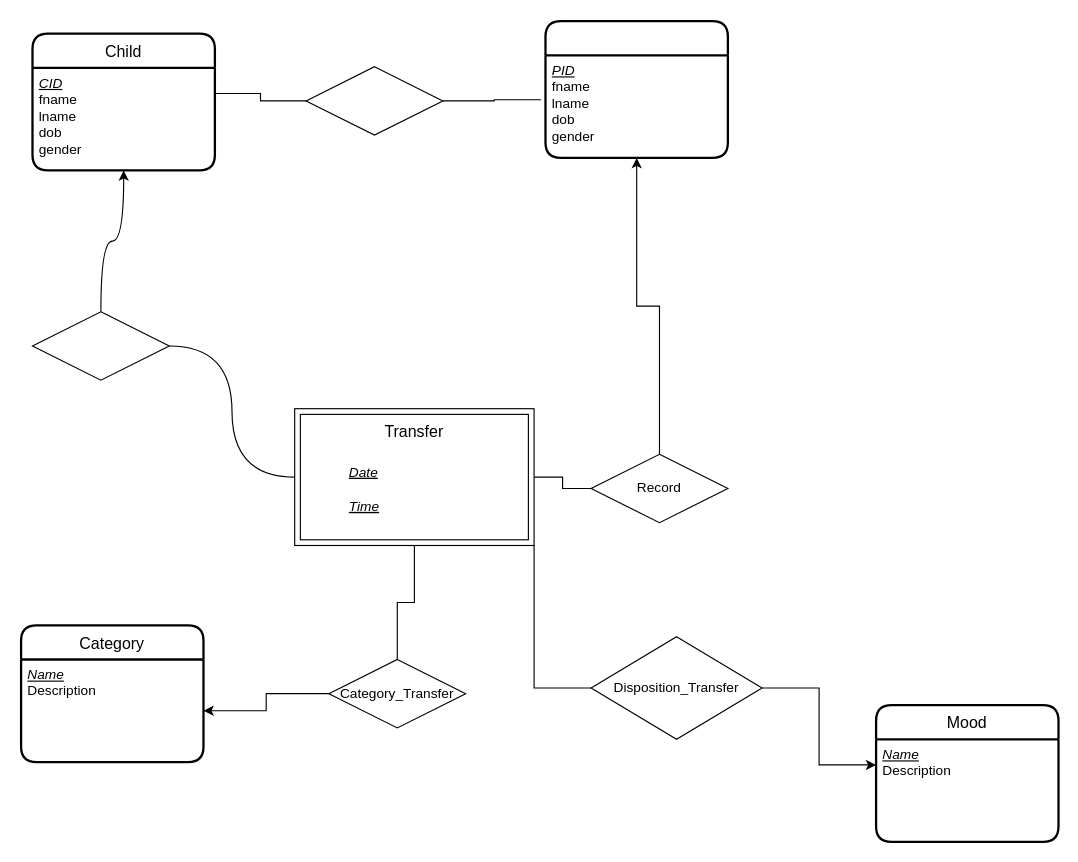
Image size: 1078x862. Some labels were removed from this diagram. Here are the shapes that lost their labels. From the top down, the box of each, then its label:
(305, 66, 443, 135): Family
(544, 19, 728, 158): Parent
(31, 311, 169, 380): Attendance
